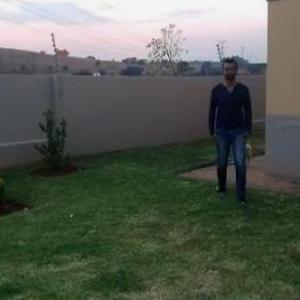follow: (210, 54, 258, 205)
